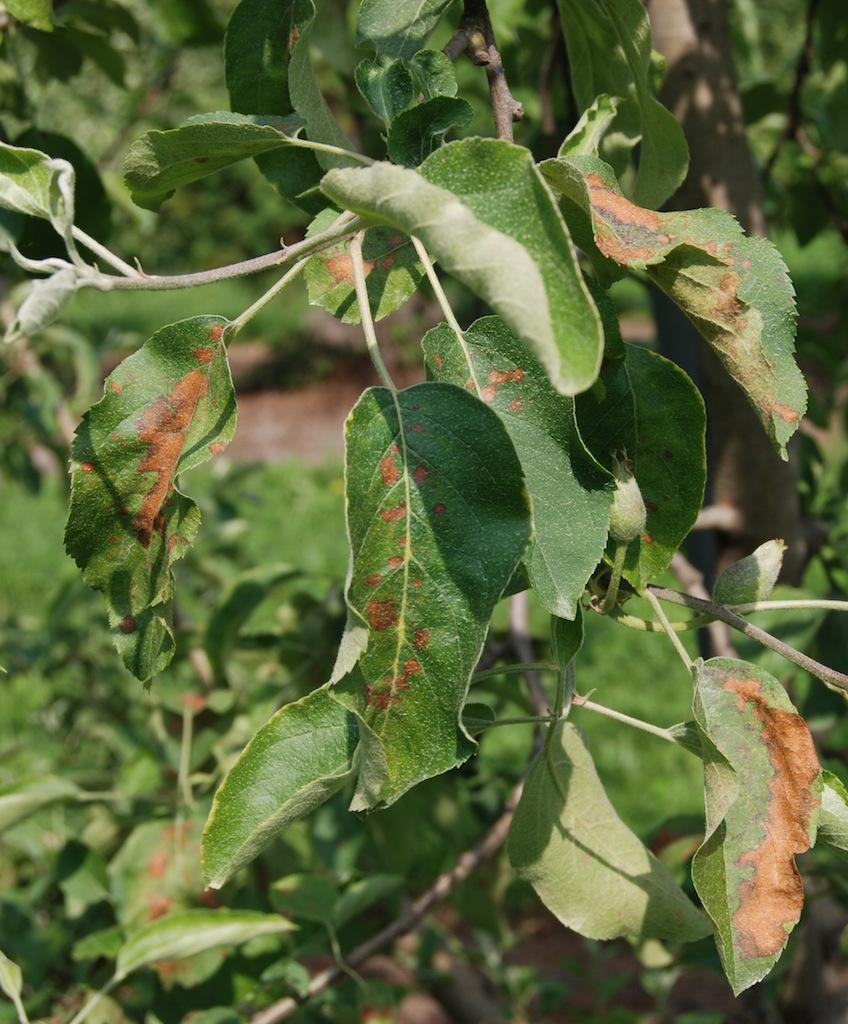Apple rust leaf: (563, 135, 835, 473), (320, 355, 510, 809), (407, 311, 648, 624), (75, 302, 253, 703), (691, 633, 811, 1015)
